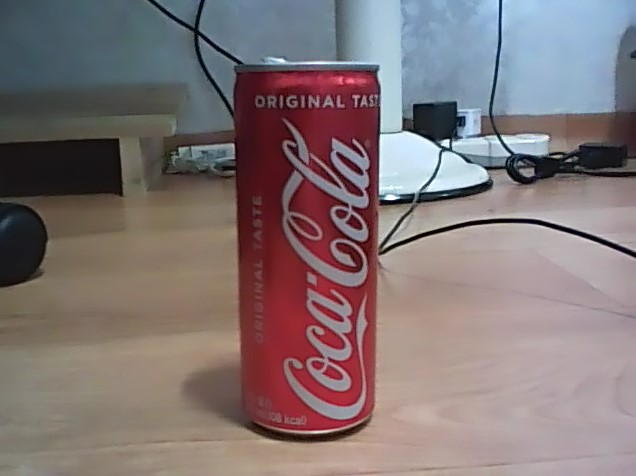Can: (227, 54, 386, 444)
